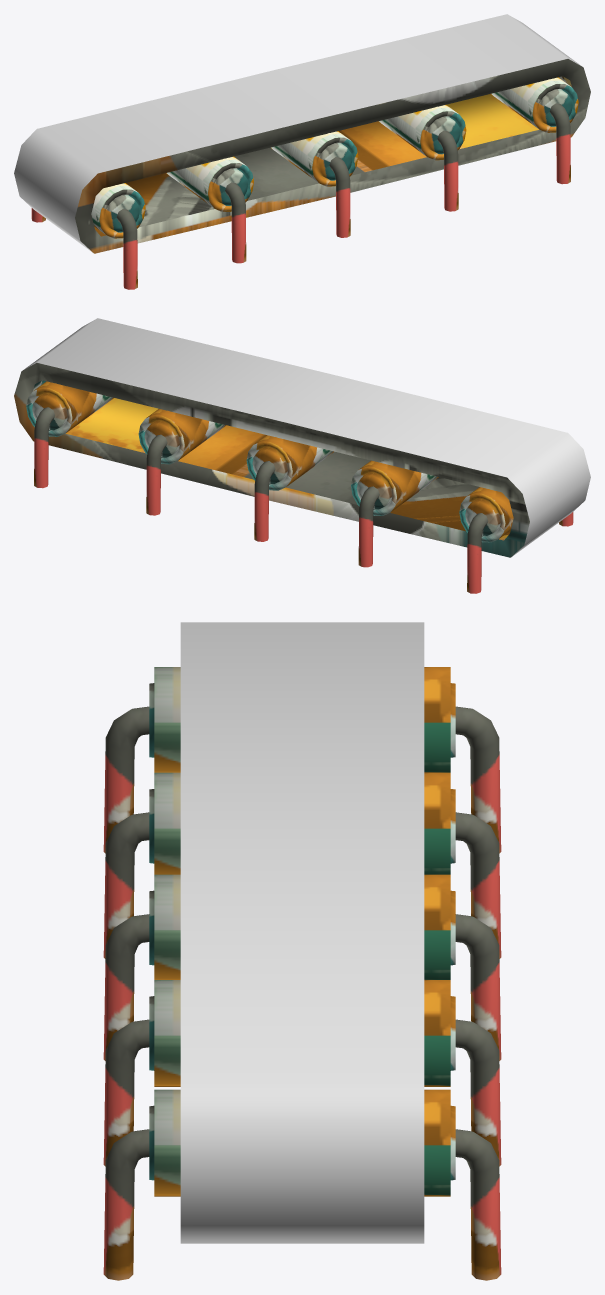
The model's file is MountedLargeConveyorBelt.fbx.
3 views of the same model, one above another, from view 1: azimuth 30°, elevation 25°; view 2: azimuth 150°, elevation 25°; view 3: azimuth 270°, elevation 25° (orthographic). The views are drawn at different scales.
Visible parts, largest first — view 1: MountedLargeConveyorBelt; view 2: MountedLargeConveyorBelt; view 3: MountedLargeConveyorBelt.
Boxes of the visible parts, bbox=[...] form: MountedLargeConveyorBelt: bbox=[14, 14, 590, 289]; MountedLargeConveyorBelt: bbox=[14, 318, 590, 593]; MountedLargeConveyorBelt: bbox=[103, 622, 501, 1280].
Size of the model in its own units: 6.43 by 1.28 by 2.15.
